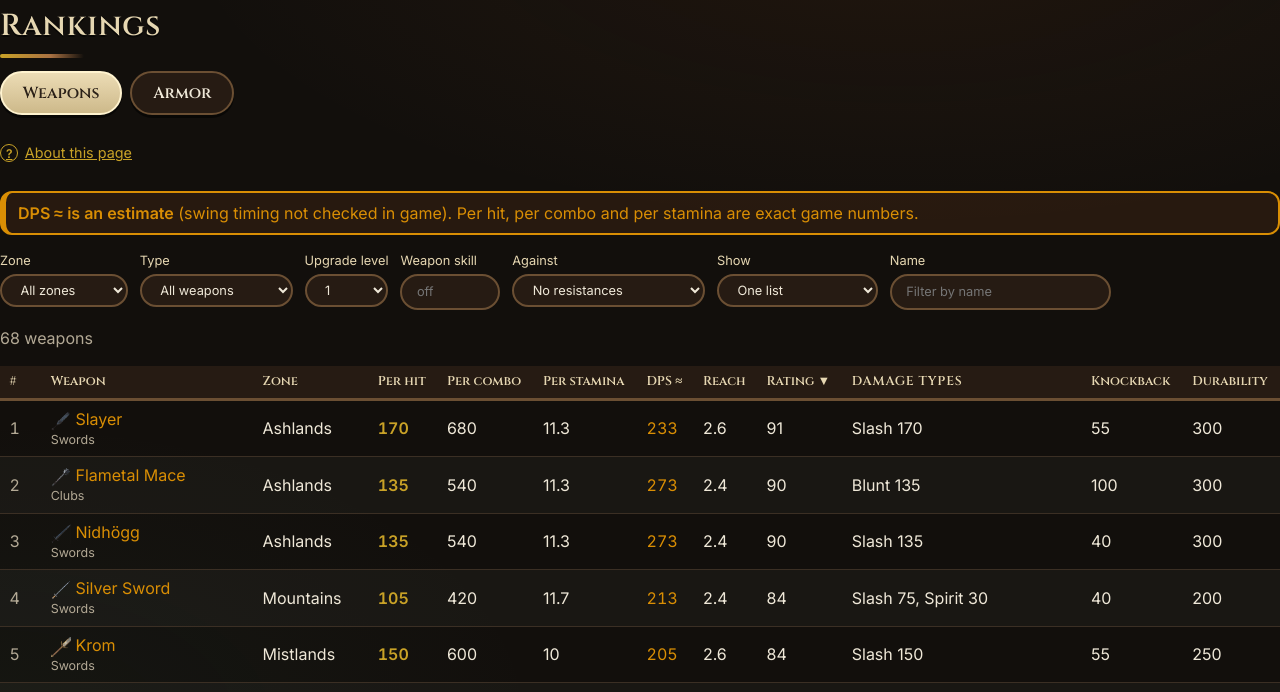
Test: weapon rankings page › says so when nothing matches
The width and height of the screenshot is (1280, 692).
Type "zzzz" into the search field labelled "Name" at (1000, 292), box 890,274 -> 1111,310
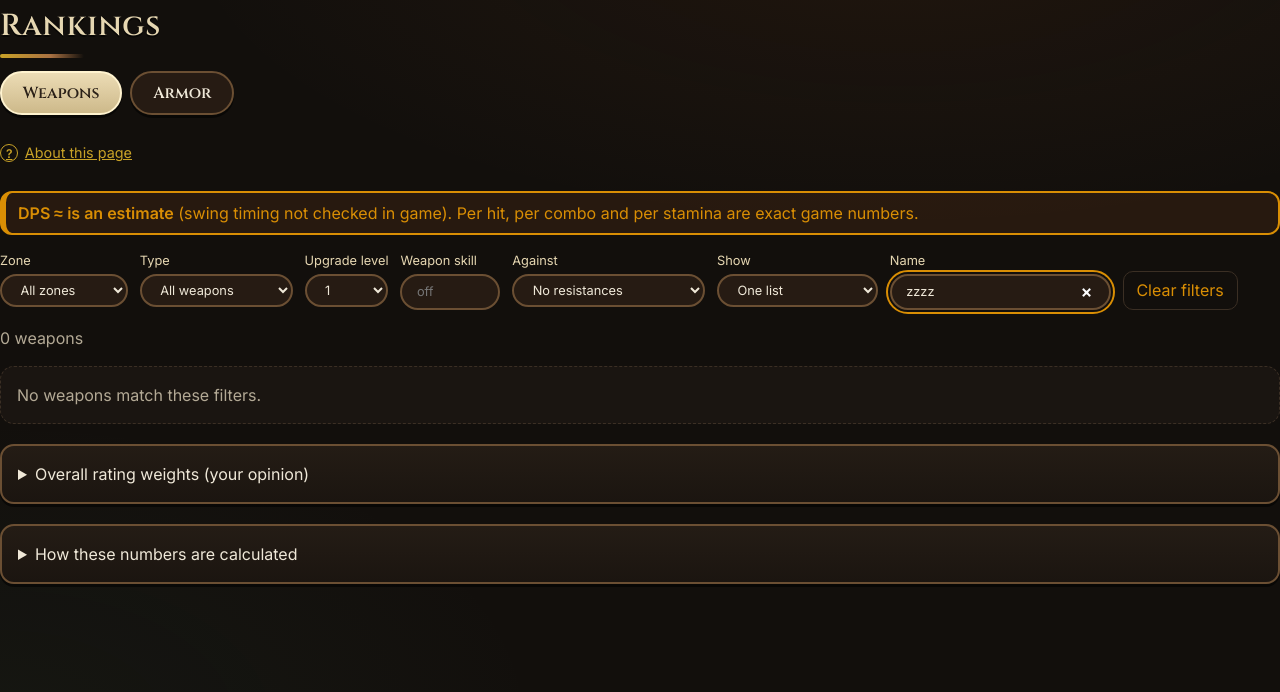
expect the text "No weapons match these filters." is shown: met, box 0,366 -> 1279,424
